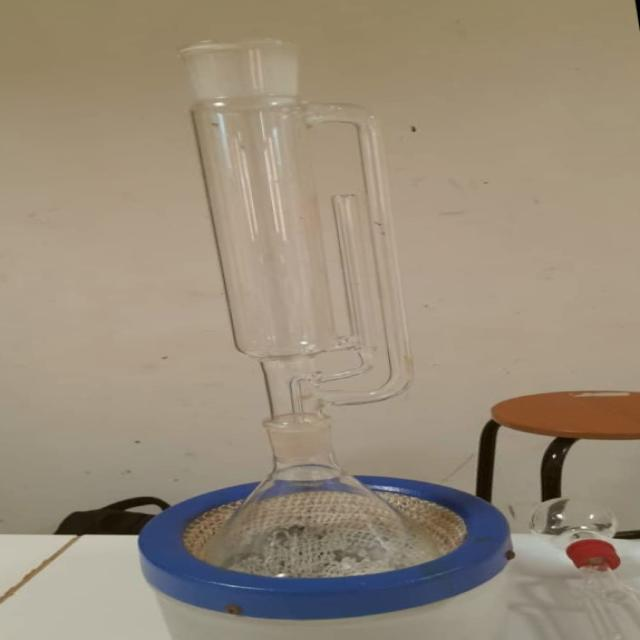Soxhlet: (127, 28, 447, 432)
